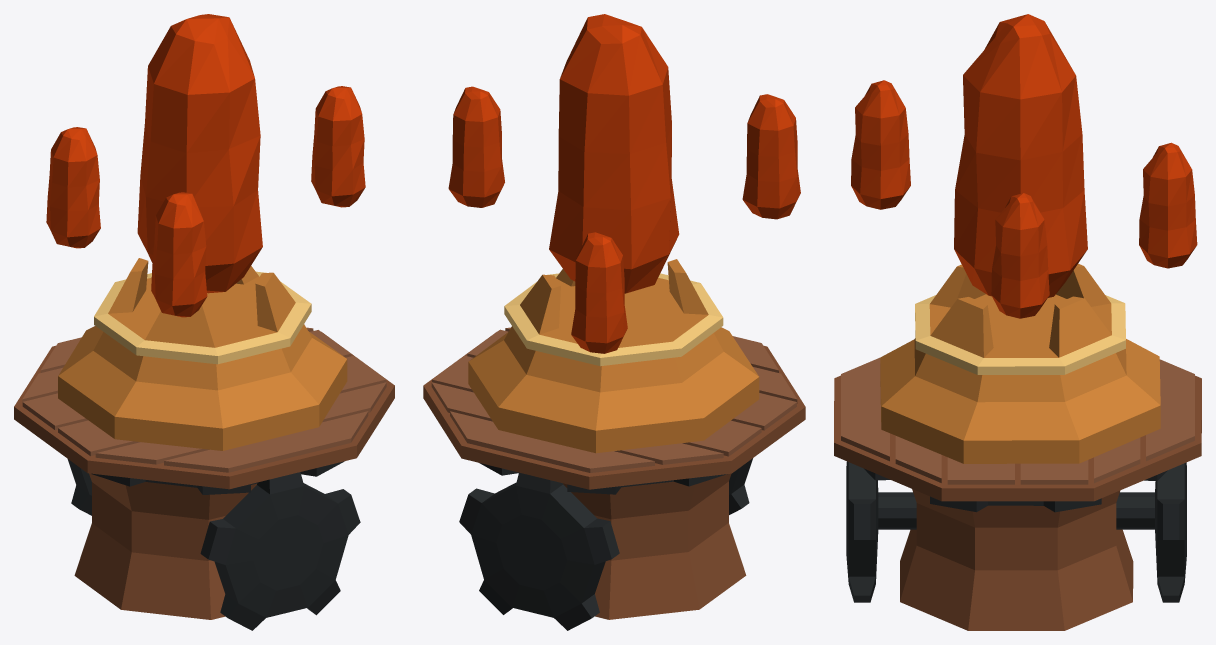
File: FireRate Level 2.FBX
The picture shows the model from 3 angles, left to right: view 1: azimuth 30°, elevation 25°; view 2: azimuth 150°, elevation 25°; view 3: azimuth 270°, elevation 25°; orthographic projection. The views are drawn at different scales.
Parts seen in each view (by area): view 1: MagicCrystal.002; view 2: MagicCrystal.002; view 3: MagicCrystal.002.
Part boxes in pixels (x1,y1,x2,y2): MagicCrystal.002: [14, 14, 394, 630]; MagicCrystal.002: [423, 14, 805, 630]; MagicCrystal.002: [834, 14, 1201, 630].
Bounding box in the file's own units: 200 × 331 × 195.
1 material, 1 textured.
